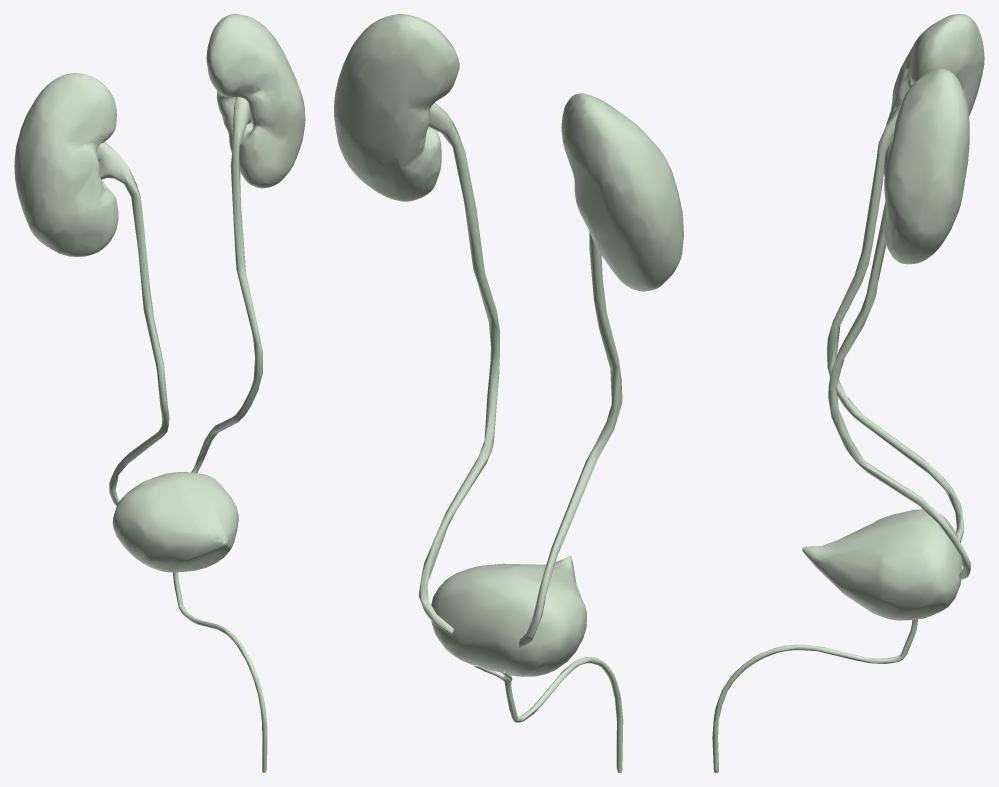
Rendered from urinario.glb.
The picture shows the model from 3 angles, left to right: view 1: azimuth 30°, elevation 25°; view 2: azimuth 150°, elevation 25°; view 3: azimuth 270°, elevation 25°; orthographic projection. The views are drawn at different scales.
Parts seen in each view (by area): view 1: FMA7204, FMA7205, FMA15900, FMA15571, FMA15572, FMA19667; view 2: FMA7205, FMA7204, FMA15900, FMA15572, FMA15571, FMA19667; view 3: FMA7205, FMA15900, FMA7204, FMA15571, FMA15572, FMA19667.
Part boxes in pixels (box(x1,y1,x2,y2)): FMA7204: box(14, 73, 118, 256); FMA7205: box(206, 14, 305, 188); FMA15900: box(112, 472, 238, 572); FMA15571: box(96, 142, 169, 505); FMA15572: box(191, 97, 262, 473); FMA19667: box(173, 572, 267, 772); FMA7205: box(334, 14, 459, 201); FMA7204: box(561, 93, 683, 291); FMA15900: box(431, 555, 586, 676); FMA15572: box(418, 103, 500, 634); FMA15571: box(519, 231, 622, 647); FMA19667: box(474, 657, 623, 772); FMA7205: box(884, 68, 969, 264); FMA15900: box(802, 509, 962, 620); FMA7204: box(883, 14, 984, 176); FMA15571: box(827, 103, 964, 542); FMA15572: box(828, 202, 970, 579); FMA19667: box(712, 619, 917, 772).
Size of the model in its own units: 0.1805 by 0.4205 by 0.1402.
